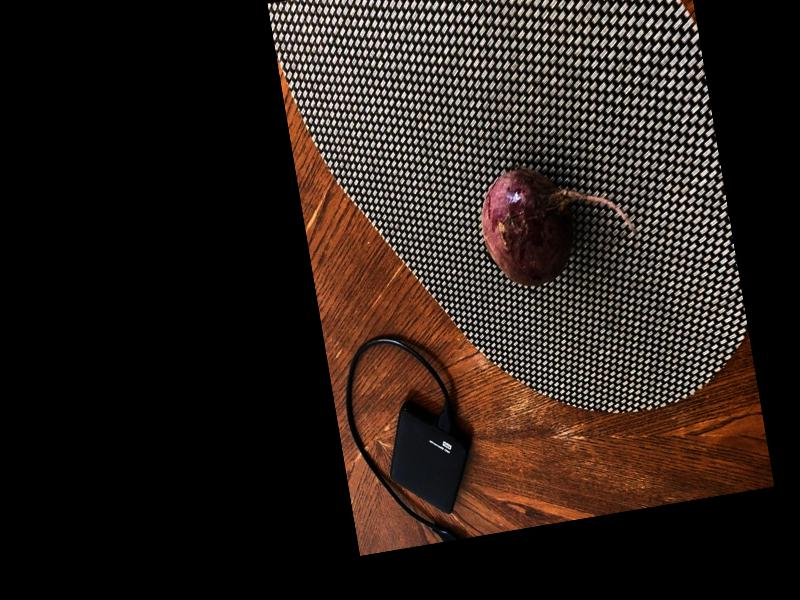Beet: (473, 150, 643, 291)
